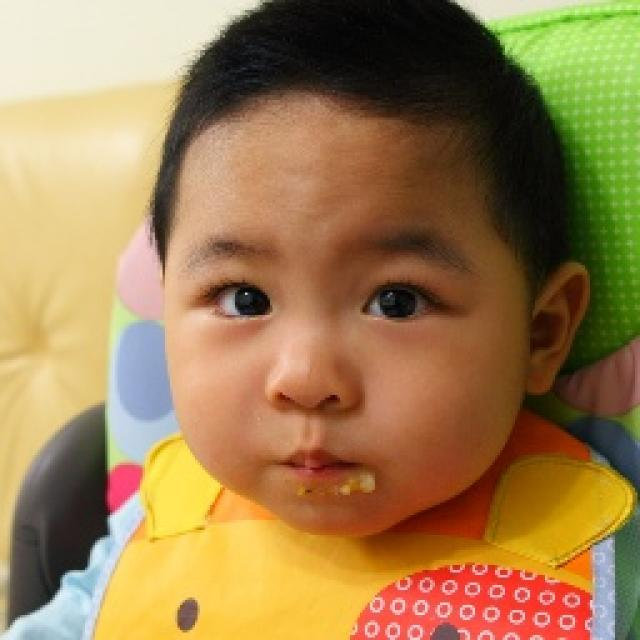earlobe: (524, 348, 560, 397)
eye: (364, 282, 438, 319), (205, 286, 275, 317)
nose: (261, 383, 358, 452)
wholeear: (524, 261, 590, 397)
